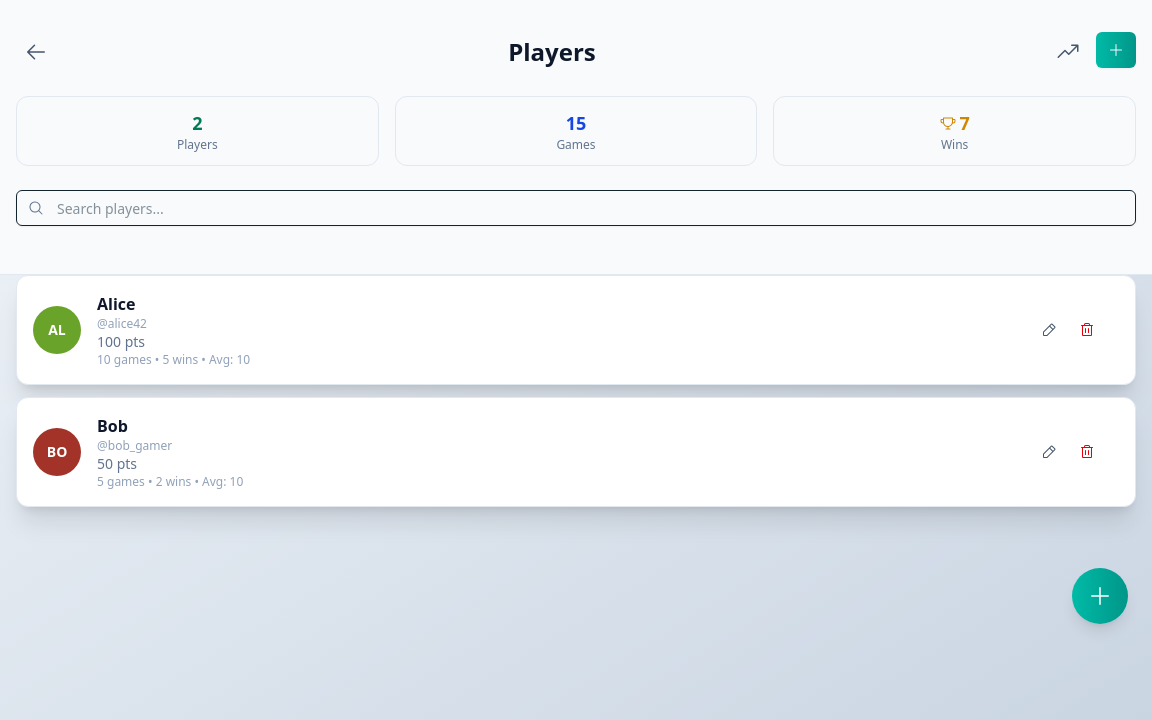
Test: PlayersPage — flux CRUD › ouvre le dialog d'ajout au clic sur le bouton +
Expected: the text "Alice" is shown, x1=97 y1=293 x2=136 y2=315
Click the button named "add new player": click(1100, 596) x1=1072 y1=568 x2=1128 y2=624
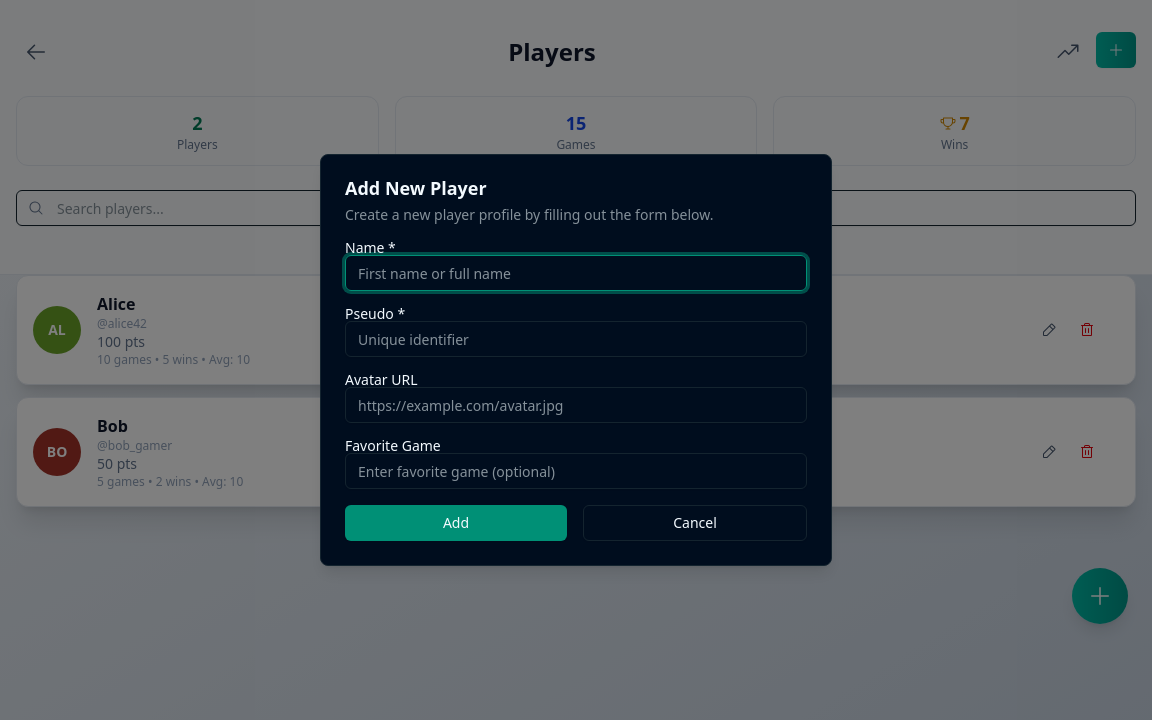
Now the dialog is shown, box x1=320 y1=154 x2=832 y2=566
